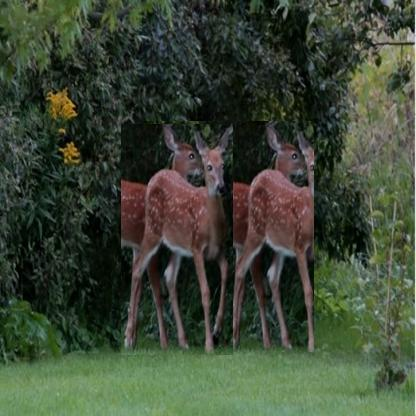Deer: (144, 121, 314, 352), (122, 124, 233, 355)
